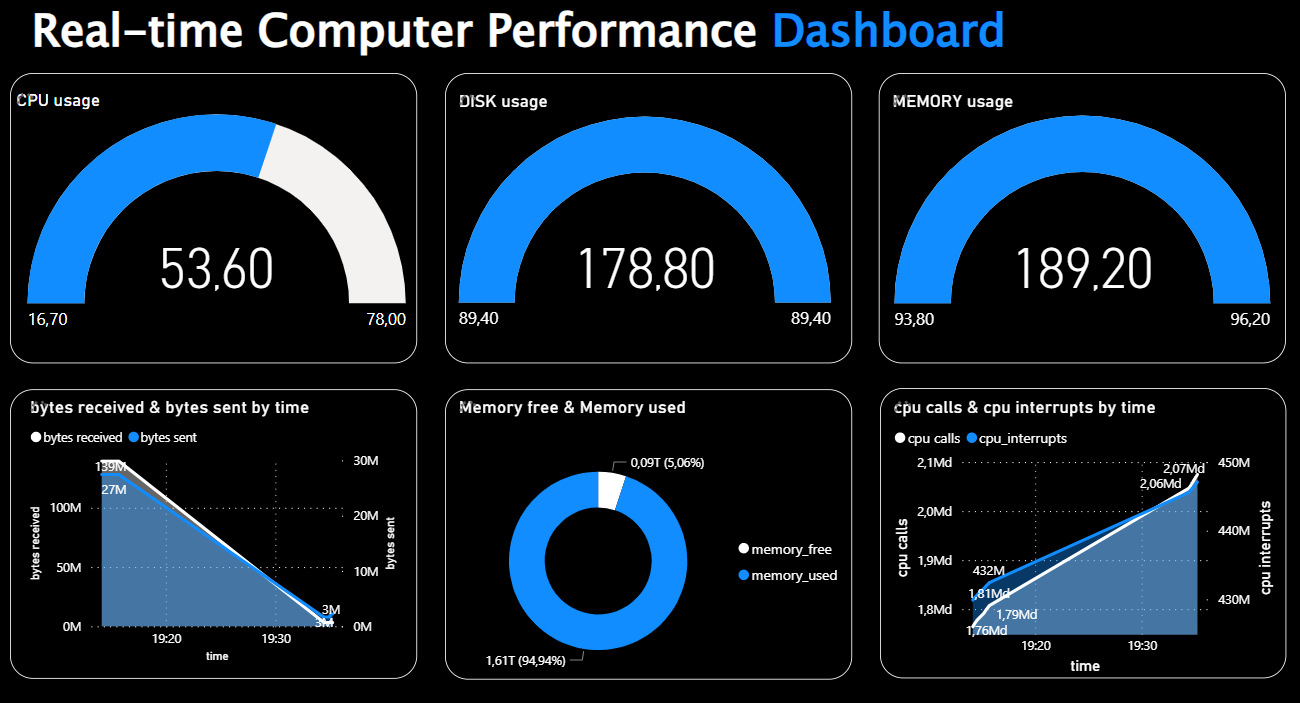

What the dashboard file says about the page in this screenshot:
{"tool":"powerbi","page":{"name":"Page 1","canvas":[1280,720],"ordinal":0},"visuals":[{"type":"textbox","box":[16.8,4.8,979.2,76.7],"z":0},{"type":"textbox","box":[14.5,82,390.8,278.6],"z":1000},{"type":"textbox","box":[849,383.5,389.5,278.6],"z":2000},{"type":"textbox","box":[431.8,384.7,390.8,278.6],"z":3000},{"type":"textbox","box":[847.8,82,390.8,278.6],"z":4000},{"type":"textbox","box":[14.5,384.7,390.8,277.4],"z":5000},{"type":"textbox","box":[431.8,82,390.8,278.6],"z":6000},{"type":"gauge","title":"CPU usage","fields":{"Y":["Performance.cpu_usage_latest"],"MinValue":["Min(Performance.cpu_usage)"],"MaxValue":["Max(Performance.cpu_usage)"]},"box":[15.6,97.1,394.3,242.1],"z":7000},{"type":"gauge","title":"DISK usage","fields":{"Y":["Performance.disk_usage_latest"],"MinValue":["Min(Performance.disk_usage)"],"MaxValue":["Max(Performance.disk_usage)"]},"box":[440.2,97.7,366.6,241.2],"z":8000},{"type":"gauge","title":"MEMORY usage","fields":{"Y":["Performance.memory_usage_latest"],"MinValue":["Min(Performance.memory_usage)"],"MaxValue":["Max(Performance.memory_usage)"]},"box":[855.7,98.3,373.9,240.9],"z":9000},{"type":"areaChart","title":"bytes received & bytes sent by time","fields":{"Category":["Performance.time"],"Y2":["Avg(Performance.bytes_sent)"],"Y":["Avg(Performance.bytes_received)"]},"box":[28.8,391.9,361.9,260.1],"z":10000},{"type":"areaChart","title":"cpu calls & cpu interrupts by time   ","fields":{"Category":["Performance.time"],"Y":["Avg(Performance.cpu_calls)"],"Y2":["Avg(Performance.cpu_interrupts)"]},"box":[856.9,391.9,373.9,270.9],"z":11000},{"type":"donutChart","title":"Memory free &  Memory used","fields":{"Y":["Sum(Performance.memory_free)","Sum(Performance.memory_used)"]},"box":[439.9,391.9,382.3,296],"z":12000}]}

Visuals, with their boxes in screenshot pixels (x1, y1, x2, y2):
textbox: bbox=(11, 0, 1026, 40)
textbox: bbox=(8, 41, 413, 330)
textbox: bbox=(873, 354, 1277, 642)
textbox: bbox=(441, 355, 846, 644)
textbox: bbox=(872, 41, 1277, 330)
textbox: bbox=(8, 355, 413, 642)
textbox: bbox=(441, 41, 846, 330)
"CPU usage" gauge: bbox=(9, 57, 418, 308)
"DISK usage" gauge: bbox=(450, 57, 830, 307)
"MEMORY usage" gauge: bbox=(880, 58, 1268, 308)
"bytes received & bytes sent by time" areaChart: bbox=(23, 362, 398, 632)
"cpu calls & cpu interrupts by time   " areaChart: bbox=(882, 362, 1269, 643)
"Memory free &  Memory used" donutChart: bbox=(449, 362, 846, 669)
